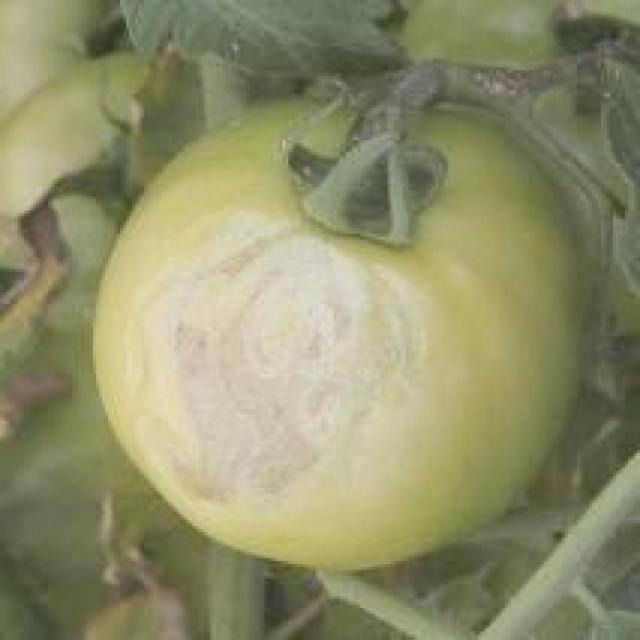Sunscald Fruit: (79, 128, 278, 337)
